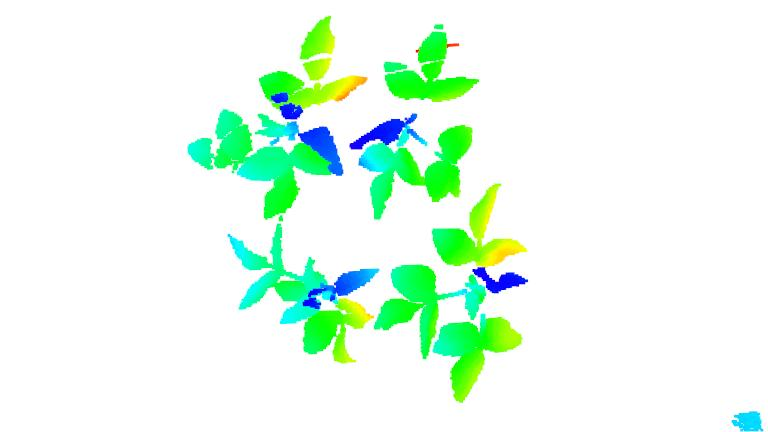mungbean: (181, 10, 369, 220), (371, 184, 530, 407), (353, 19, 476, 222), (224, 214, 375, 365)
